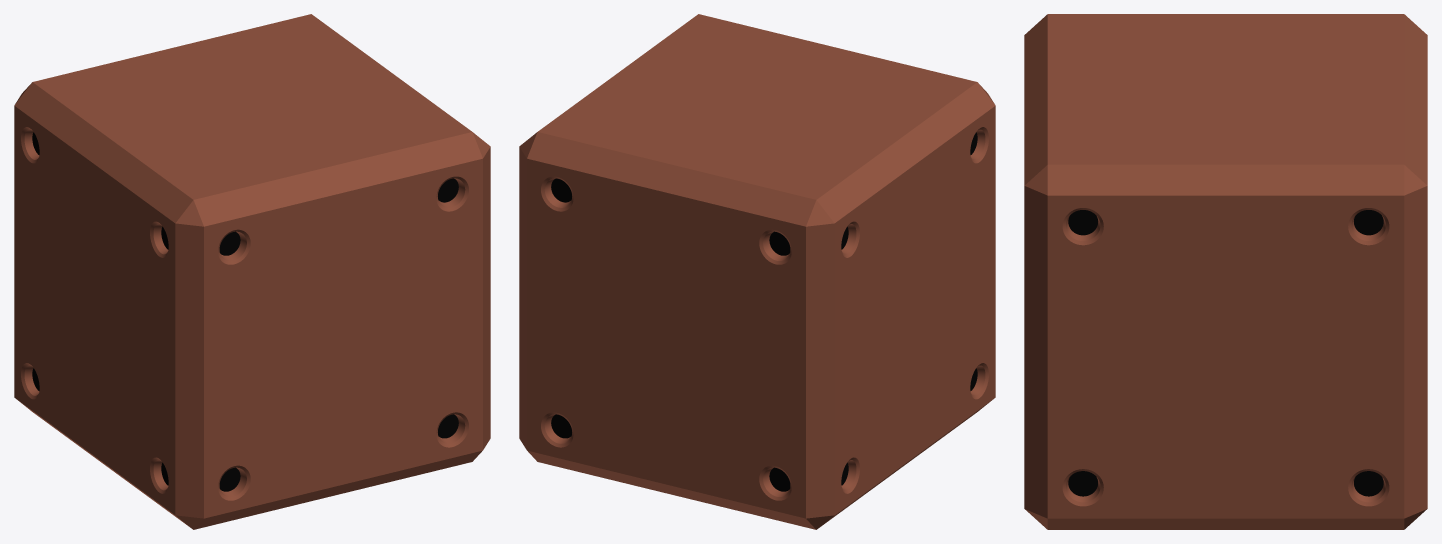
The model's file is Used Block 1.fbx.
3 views of the same model, side by side, from view 1: azimuth 30°, elevation 25°; view 2: azimuth 150°, elevation 25°; view 3: azimuth 270°, elevation 25° (orthographic). The views are drawn at different scales.
Visible parts, largest first — view 1: Cube; view 2: Cube; view 3: Cube.
Part boxes in pixels (x1,y1,x2,y2): Cube: [14, 14, 490, 529]; Cube: [519, 14, 995, 529]; Cube: [1024, 14, 1427, 529].
Size of the model in its own units: 200 by 200 by 200.
